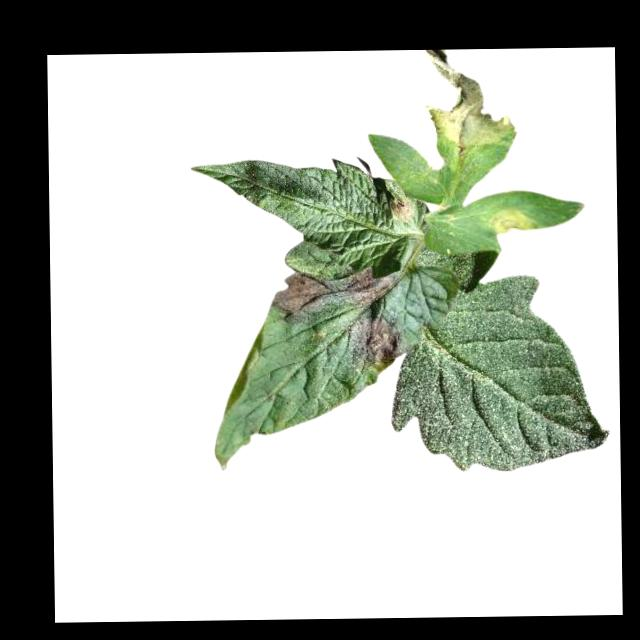Late_blight: (424, 48, 520, 156), (270, 270, 341, 327), (345, 316, 409, 373), (346, 267, 403, 308), (487, 206, 543, 237), (389, 196, 415, 225)
healthy: (390, 273, 611, 475)
